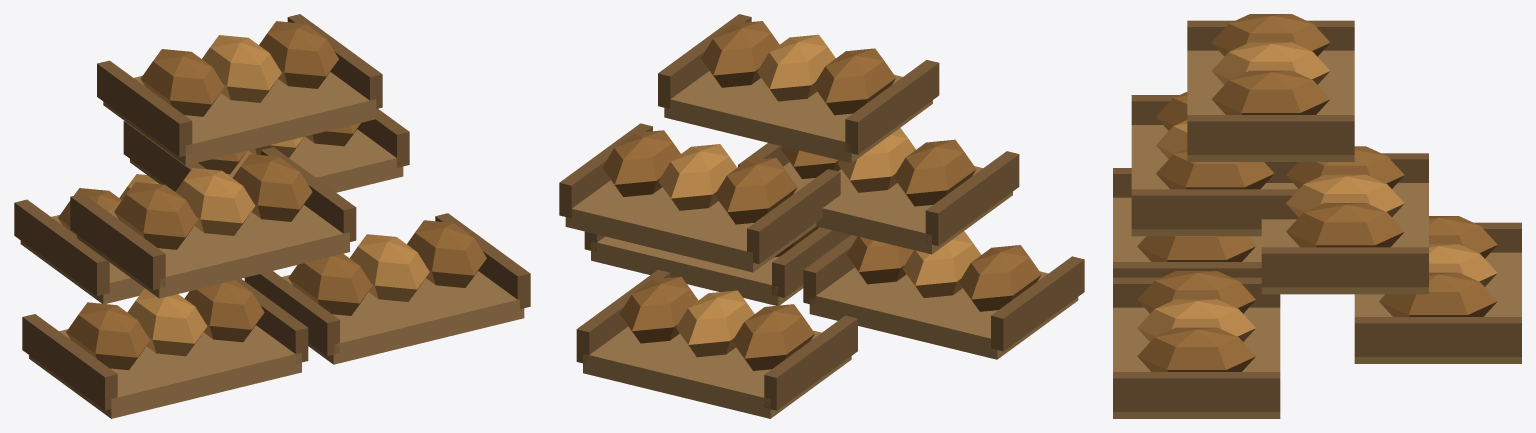
File: pile_bread_3.glb
The picture shows the model from 3 angles, left to right: view 1: azimuth 30°, elevation 25°; view 2: azimuth 150°, elevation 25°; view 3: azimuth 270°, elevation 25°; orthographic projection. The views are drawn at different scales.
Parts seen in each view (by area): view 1: pile_bread_3; view 2: pile_bread_3; view 3: pile_bread_3.
Part boxes in pixels (bbox=[...]): pile_bread_3: bbox=[14, 14, 530, 418]; pile_bread_3: bbox=[559, 14, 1084, 418]; pile_bread_3: bbox=[1113, 14, 1521, 418].
Bounding box in the file's own units: 1.34 × 0.81 × 1.1.
